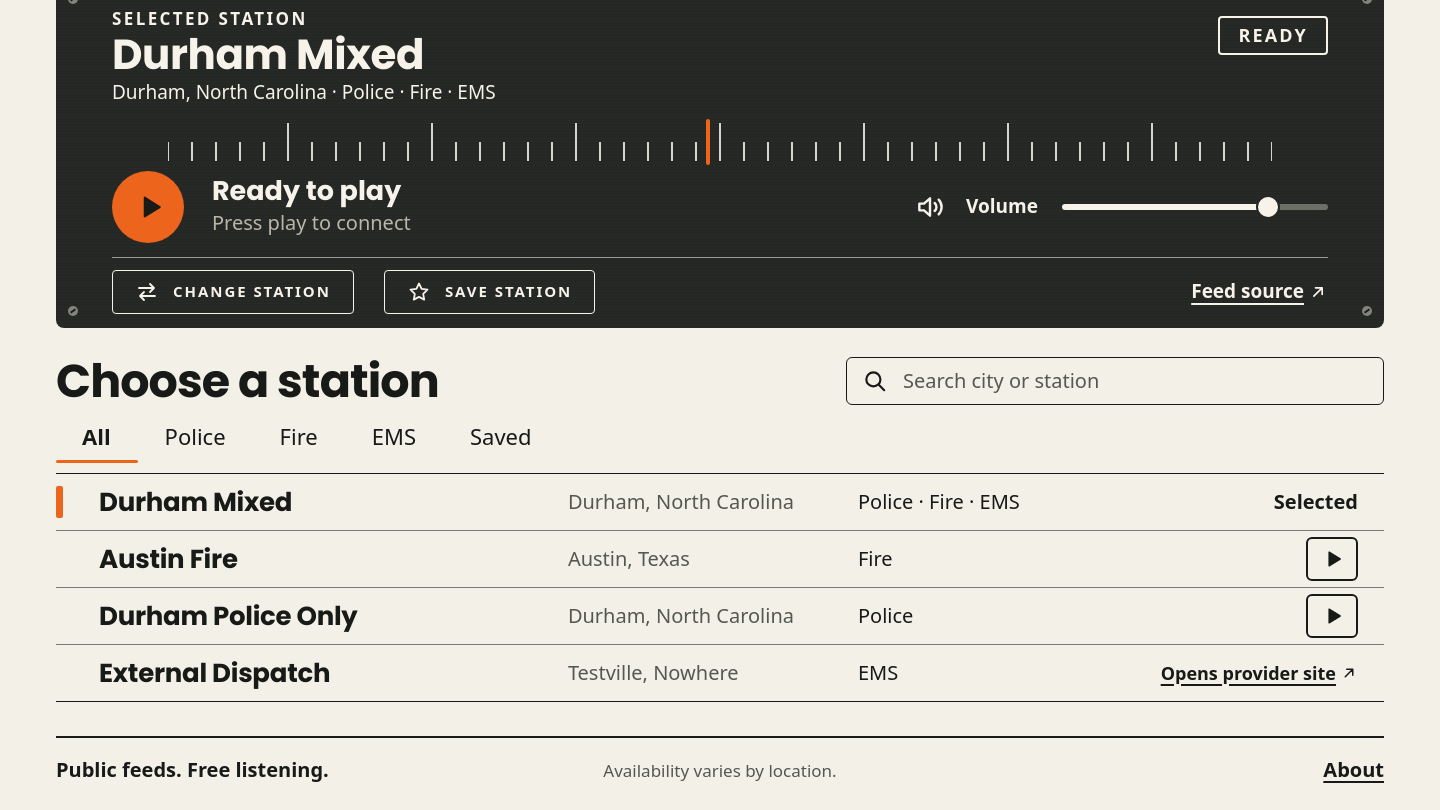
App › plays a station from its row
(page scrolled)
What coordinates should you click on to do the following:
click the button named "Play Austin Fire"
I would click on:
 (1332, 559)
Its box is [1306,537,1358,581].
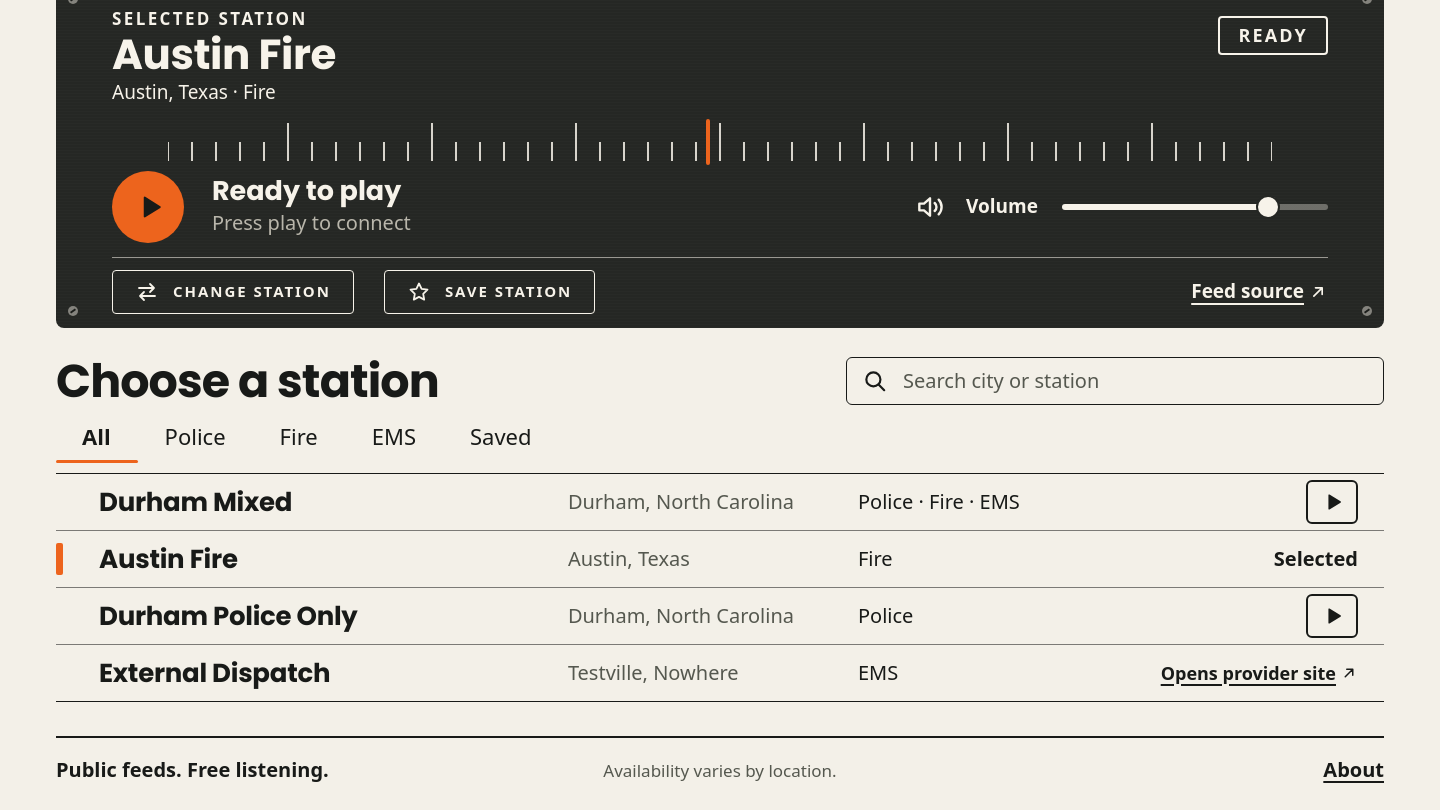
Now the heading "Austin Fire" is shown, box [112,31,336,78]
